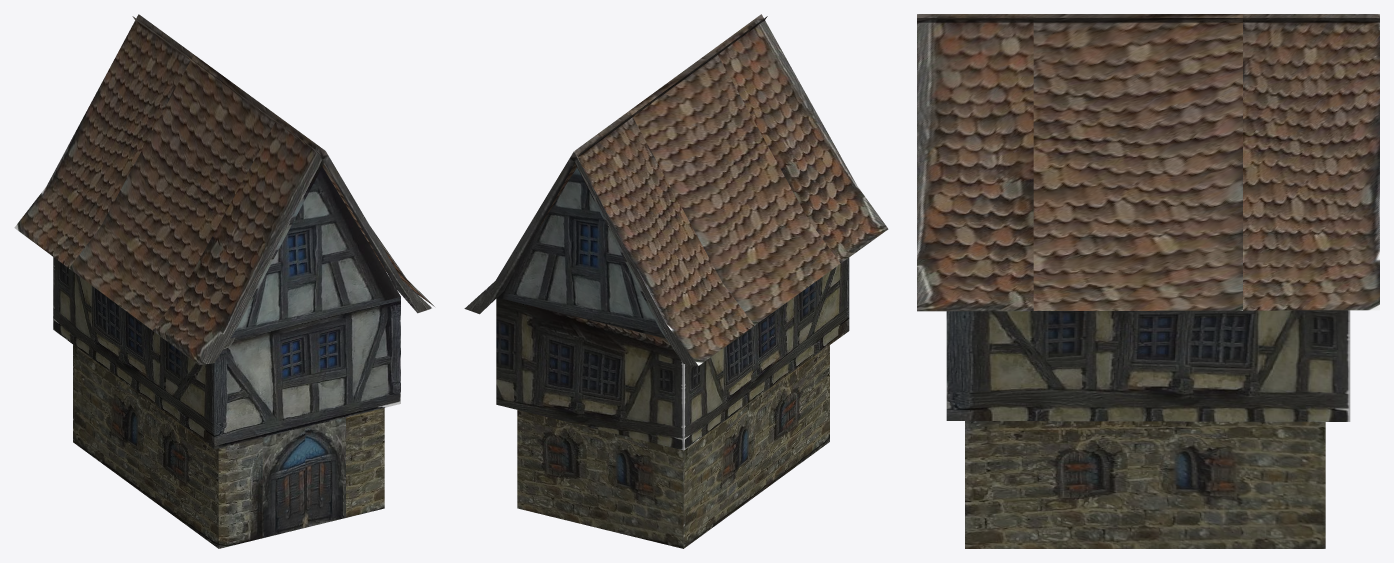
3 views of the same model, side by side, from view 1: azimuth 30°, elevation 25°; view 2: azimuth 150°, elevation 25°; view 3: azimuth 270°, elevation 25° (orthographic). The views are drawn at different scales.
Parts seen in each view (by area): view 1: h4.002; view 2: h4.002; view 3: h4.002.
Boxes of the visible parts, x1,y1,x2,y2 form: h4.002: (14, 14, 434, 548); h4.002: (464, 14, 888, 548); h4.002: (917, 14, 1379, 548).
Bounding box in the file's own units: 1.46 × 2.3 × 2.
1 material, 1 textured.
